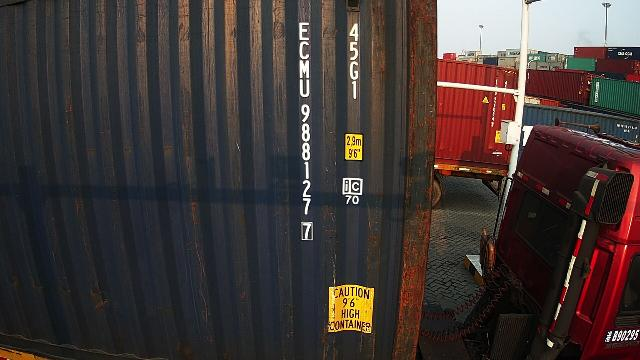1: (304, 161, 310, 179)
2: (302, 180, 312, 198)
7: (302, 222, 312, 240), (302, 198, 312, 216)
8: (301, 142, 311, 162), (301, 122, 311, 142)
9: (300, 103, 312, 122)
C: (298, 40, 310, 60)
E: (298, 22, 310, 40)
M: (299, 60, 311, 78)
U: (299, 78, 311, 98)
